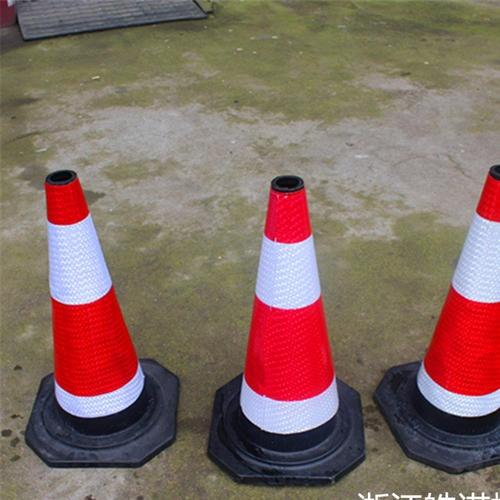cone_barrel: (213, 172, 356, 465), (30, 172, 162, 441), (400, 168, 498, 453)
